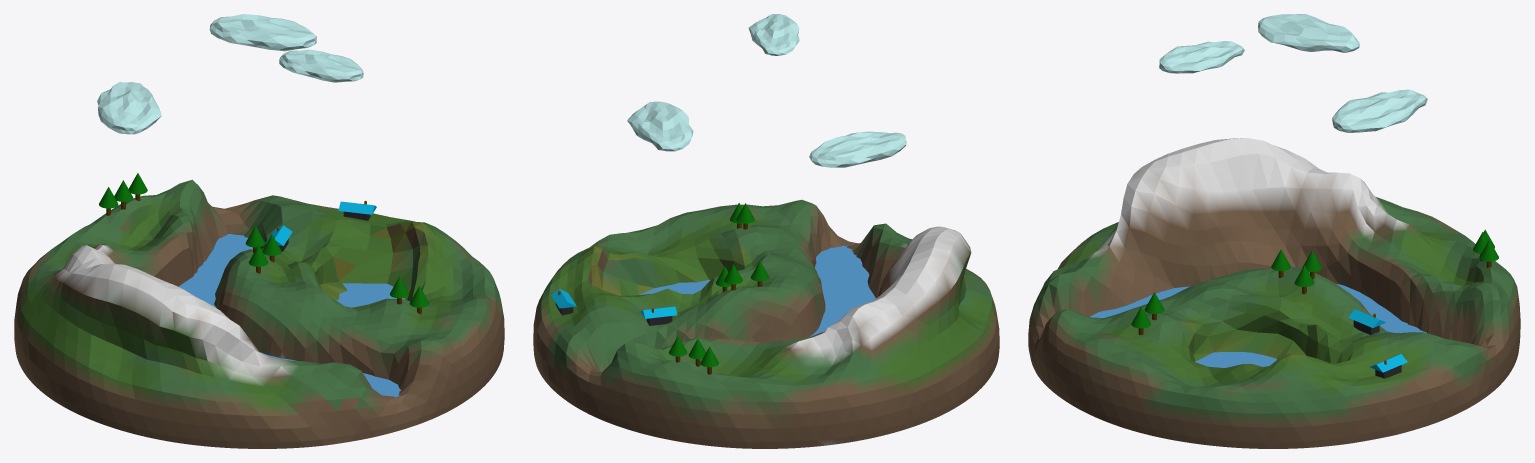
The picture shows the model from 3 angles, left to right: view 1: azimuth 30°, elevation 25°; view 2: azimuth 150°, elevation 25°; view 3: azimuth 270°, elevation 25°; orthographic projection. The views are drawn at different scales.
Visible parts, largest first — view 1: 地形, 平面, 云.002, 云.001, 云, 房子.001; view 2: 地形, 平面, 云.001, 云.002, 云, 房子; view 3: 地形, 云.001, 云.002, 平面, 云, 房子, 房子.001.
Part boxes in pixels (x1,y1,x2,y2): 地形: [14, 179, 504, 448]; 平面: [178, 234, 405, 397]; 云.002: [209, 14, 316, 51]; 云.001: [97, 82, 161, 134]; 云: [279, 49, 363, 82]; 房子.001: [338, 200, 376, 220]; 地形: [533, 199, 999, 448]; 平面: [639, 245, 875, 336]; 云.001: [809, 131, 906, 167]; 云.002: [627, 101, 693, 151]; 云: [748, 14, 799, 55]; 房子: [640, 306, 677, 325]; 地形: [1028, 138, 1520, 448]; 云.001: [1258, 14, 1359, 52]; 云.002: [1332, 89, 1427, 132]; 平面: [1089, 284, 1426, 367]; 云: [1159, 41, 1244, 73]; 房子: [1348, 309, 1385, 334]; 房子.001: [1370, 354, 1407, 378].
Bounding box in the file's own units: 1997 × 1481 × 1990.
